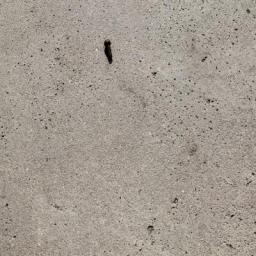FOD: (101, 39, 119, 67)
